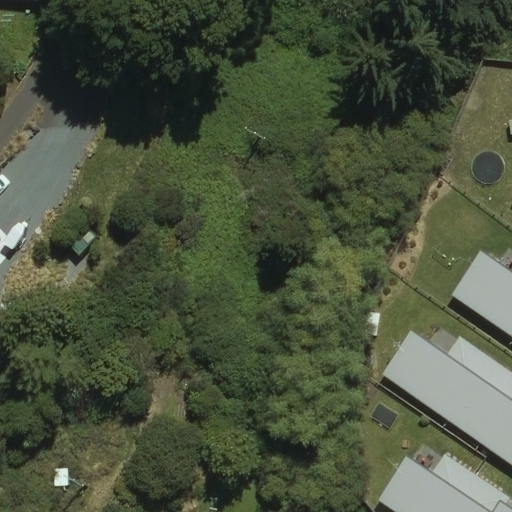DT: (241, 122, 270, 147)
